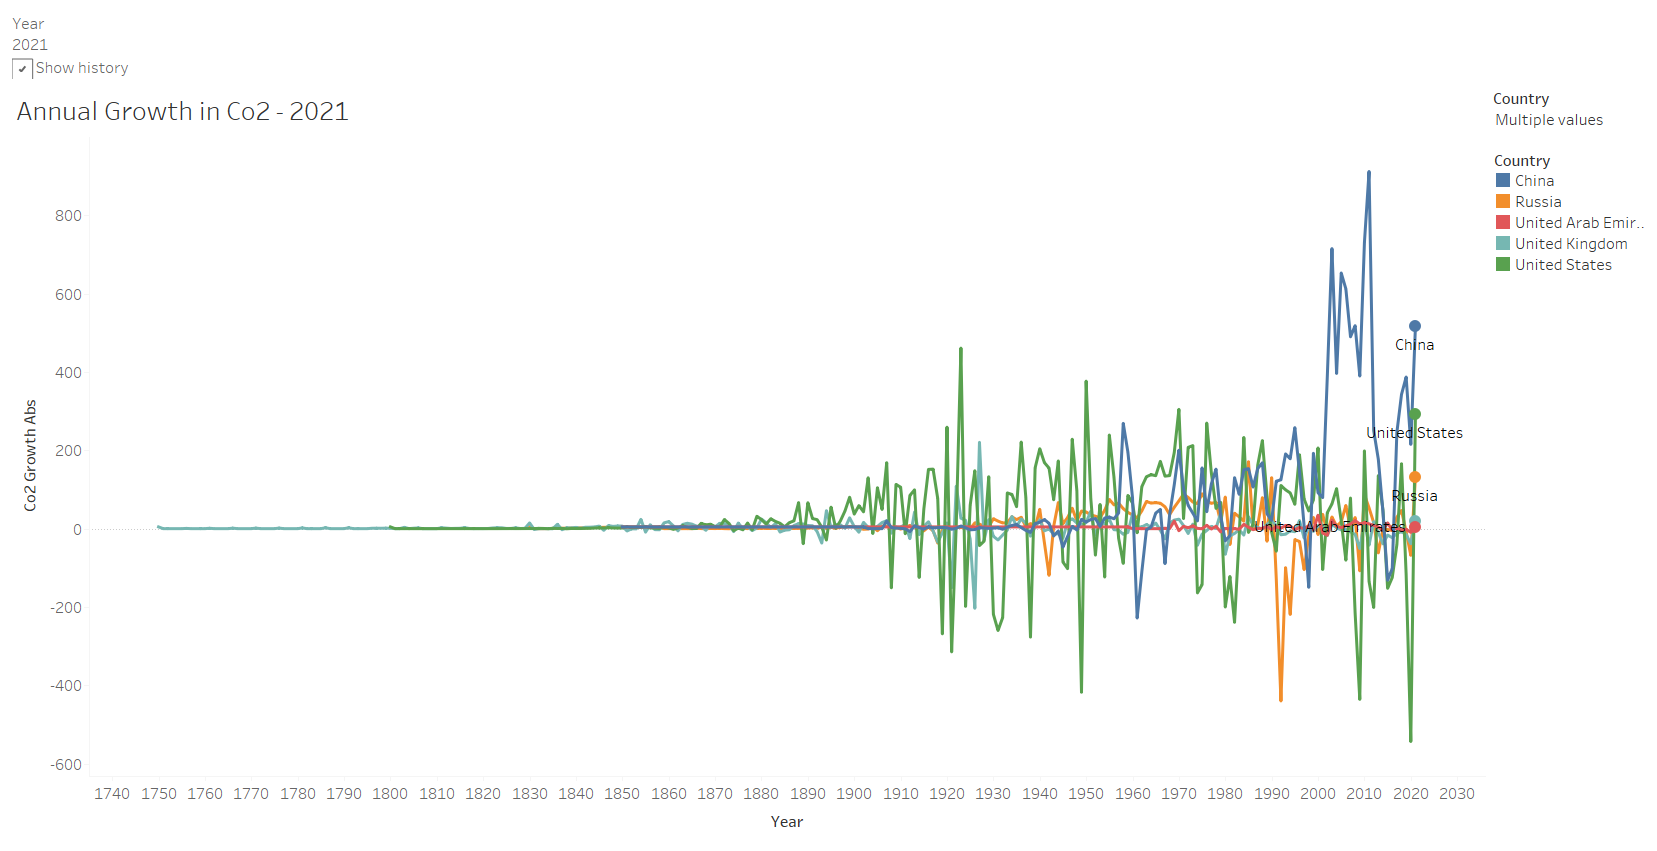

What the dashboard file says about the page in this screenshot:
{"tool":"tableau","page":{"name":"Year to Year Absolute Change on Co2 Emission","canvas":[1000,1000],"units":"permille","ordinal":3},"visuals":[{"type":"currpage","title":"Annual Growth in Co2","box":[4.8,9.4,990.3,88.1]},{"type":"worksheet","title":"Annual Growth in Co2","mark":"Circle","rows":["co2_growth_abs"],"cols":["year"],"box":[4.8,97.5,893.8,893.1]},{"type":"filter","title":"Annual Growth in Co2","param":"[federated.11hnmx00splwlf16n3ti71uejiao].[none:country:nk]","box":[898.6,97.5,96.6,71.7]},{"type":"legend","title":"Annual Growth in Co2","param":"[federated.11hnmx00splwlf16n3ti71uejiao].[none:country:nk]","box":[898.6,169.2,96.6,158.6]}]}

Visuals, with their boxes on the dashboard's canvas, which has no fixed pixel size, in thousandths of its width and height (x1, y1, x2, y2). These are canvas units, not pixel positions in the 1657x851 screenshot, which may show the page scaled, cropped or inside an application window:
"Annual Growth in Co2" currpage: <region>5, 9, 995, 98</region>
"Annual Growth in Co2" worksheet (Circle marks): <region>5, 98, 899, 991</region>
"Annual Growth in Co2" filter: <region>899, 98, 995, 169</region>
"Annual Growth in Co2" legend: <region>899, 169, 995, 328</region>
